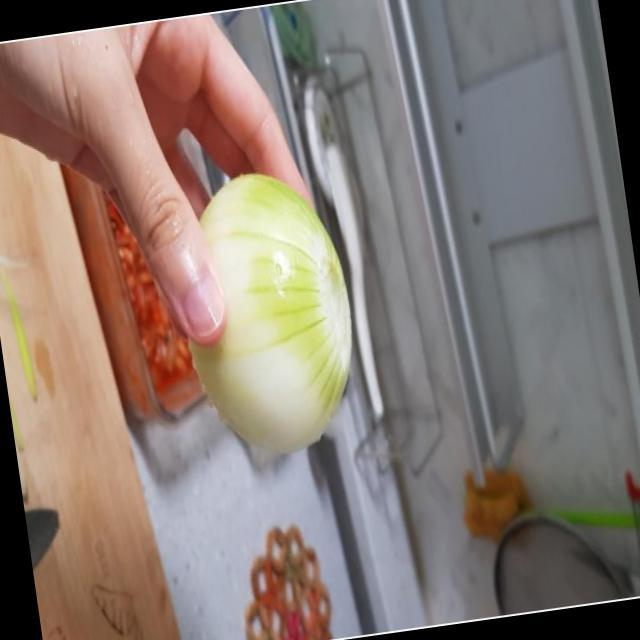Onion: (180, 173, 352, 451)
